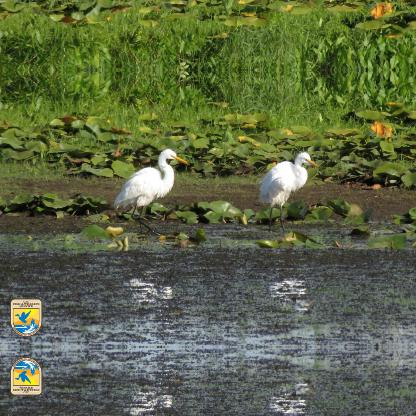Bird: (110, 145, 192, 237), (258, 150, 318, 232)
